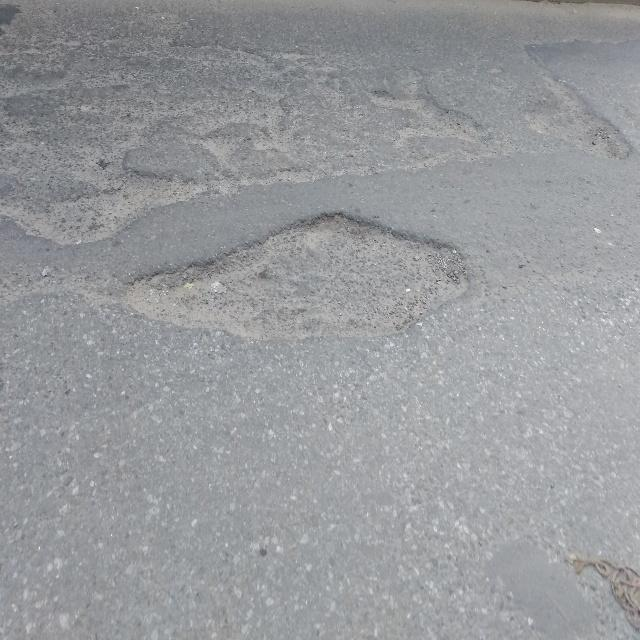Surface Erosion: (0, 32, 620, 401)
